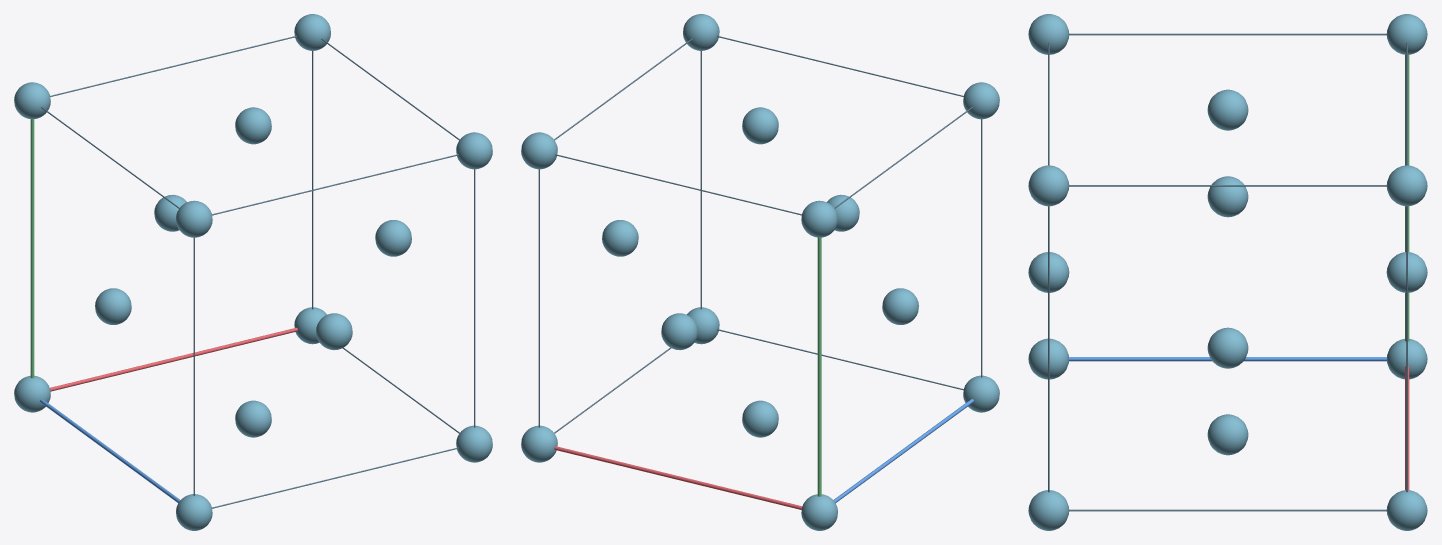
Rendered from nguyen-to-ca.glb.
3 views of the same model, side by side, from view 1: azimuth 30°, elevation 25°; view 2: azimuth 150°, elevation 25°; view 3: azimuth 270°, elevation 25° (orthographic). The views are drawn at different scales.
Visible parts, largest first — view 1: Ca · Ca · 1 (×14), Ô mạng và các trục a, b, c; view 2: Ca · Ca · 1 (×14), Ô mạng và các trục a, b, c; view 3: Ca · Ca · 1 (×14), Ô mạng và các trục a, b, c.
Part boxes in pixels (<box>): Ca · Ca · 1 (×14): <box>14,14,492,530</box>; Ô mạng và các trục a, b, c: <box>30,35,475,508</box>; Ca · Ca · 1 (×14): <box>521,14,999,530</box>; Ô mạng và các trục a, b, c: <box>538,35,982,509</box>; Ca · Ca · 1 (×14): <box>1028,14,1427,530</box>; Ô mạng và các trục a, b, c: <box>1048,33,1409,511</box>.
Size of the model in its own units: 6.24 by 6.24 by 6.24.
